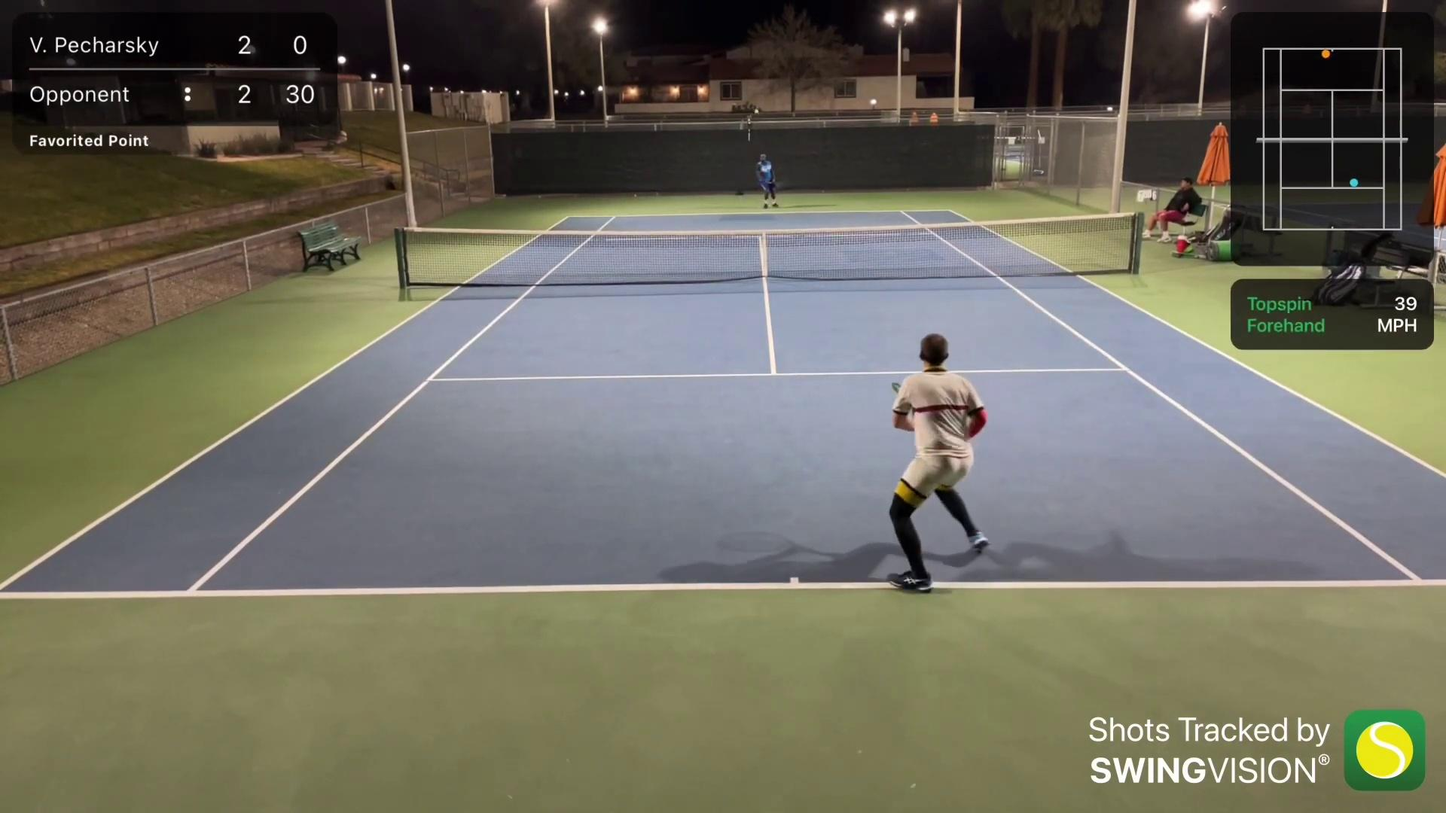ball: (754, 107, 762, 118)
